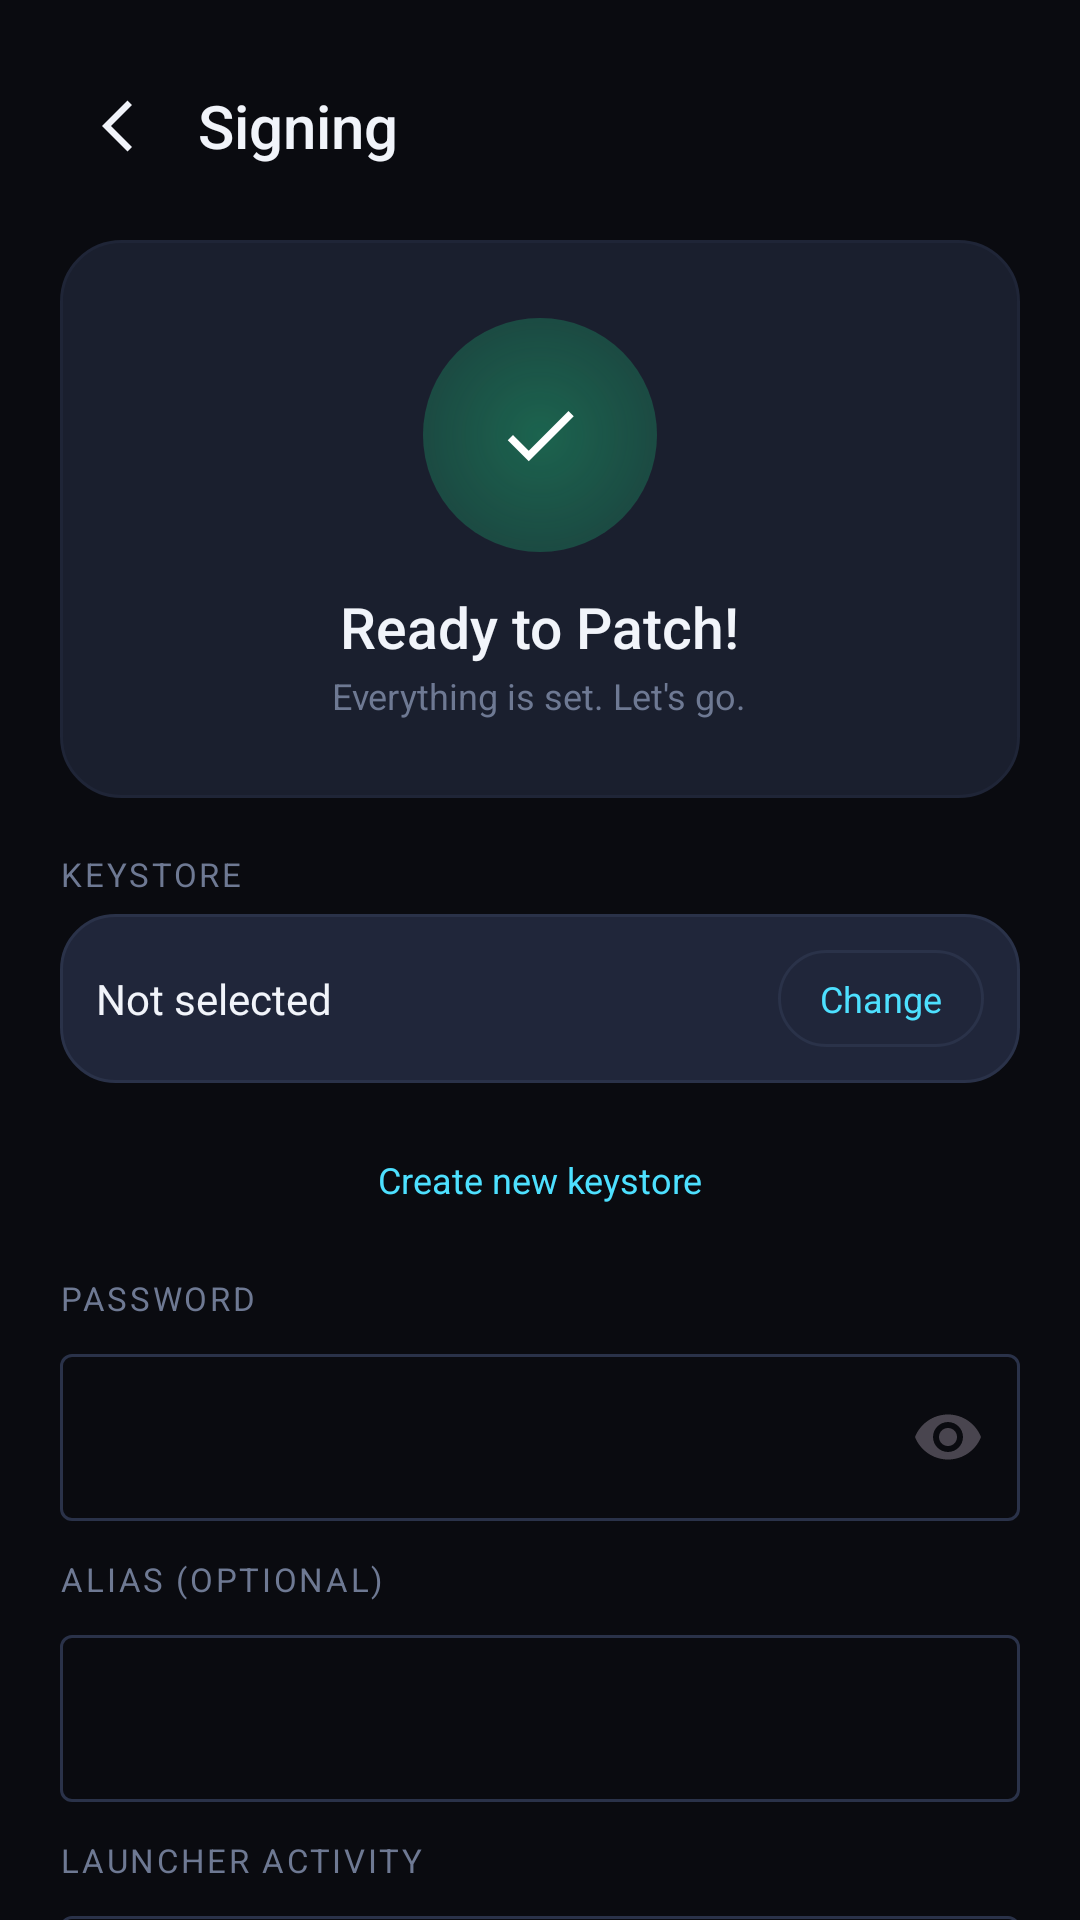

Named icons in this screenshot (1080w x 1920h) and their bounding boxes, (x1, y1, x2, y2):
back: (102, 100, 132, 152)
